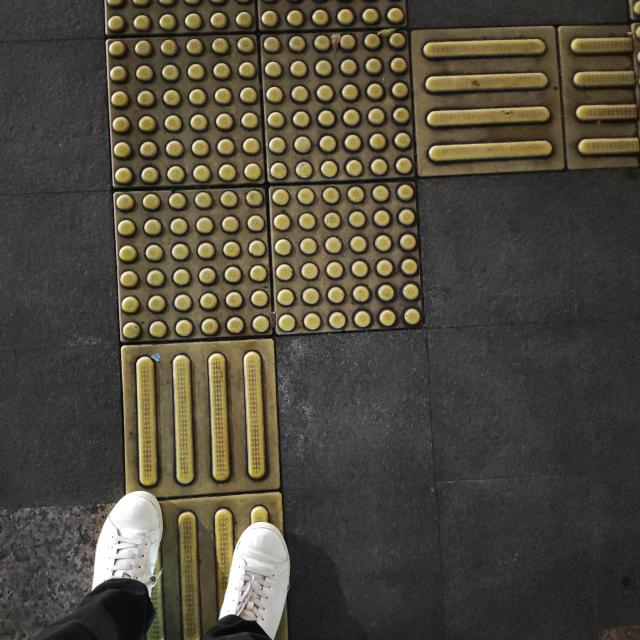kanan: (66, 26, 640, 442)
